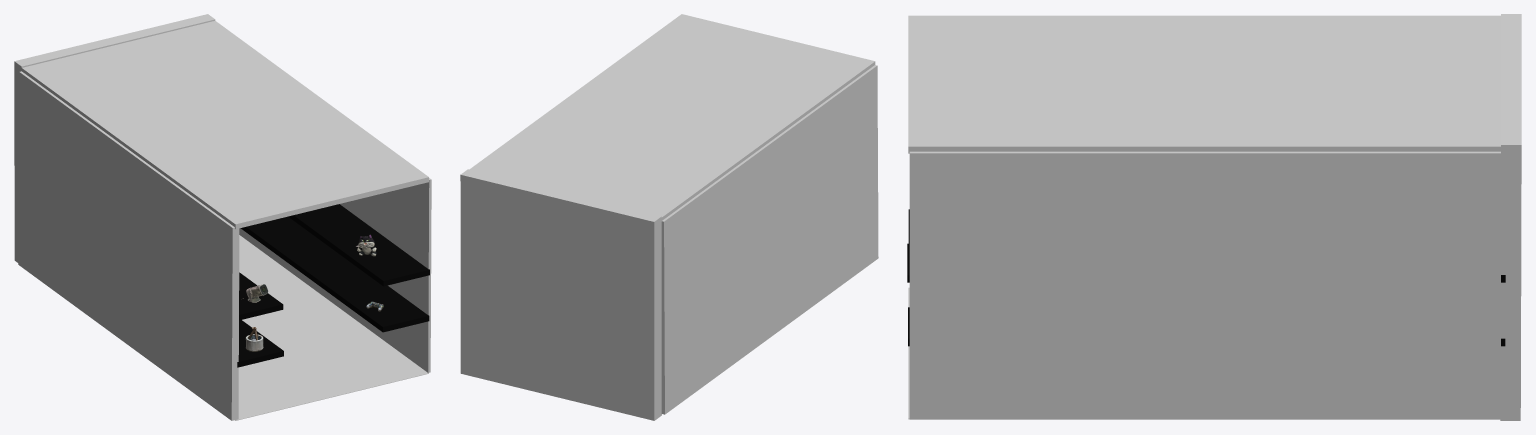
Rendered from asset.glb.
3 views of the same model, side by side, from view 1: azimuth 30°, elevation 25°; view 2: azimuth 150°, elevation 25°; view 3: azimuth 270°, elevation 25° (orthographic). The views are drawn at different scales.
Visible parts, largest first — view 1: Cube.002, Cube, Cube.001, Cube.003, Cube.004, Cube.008, Cube.006, Cube.007, Cube.005; view 2: Cube.002, Cube.006, Cube; view 3: Cube.003, Cube, Cube.006.
Part boxes in pixels (bbox=[...]): Cube.002: bbox=[18, 71, 239, 420]; Cube: bbox=[20, 20, 428, 229]; Cube.001: bbox=[235, 235, 428, 420]; Cube.003: bbox=[239, 178, 431, 372]; Cube.004: bbox=[240, 216, 429, 332]; Cube.008: bbox=[288, 204, 429, 286]; Cube.006: bbox=[14, 14, 215, 262]; Cube.007: bbox=[239, 272, 283, 320]; Cube.005: bbox=[237, 320, 283, 367]; Cube.002: bbox=[661, 65, 878, 414]; Cube.006: bbox=[460, 169, 661, 420]; Cube: bbox=[469, 14, 875, 223]; Cube.003: bbox=[909, 151, 1500, 419]; Cube: bbox=[908, 15, 1504, 153]; Cube.006: bbox=[1500, 14, 1521, 420].
Size of the model in its own units: 2.07 by 1.97 by 3.97.
Materials: 6 (4 with a texture image).
